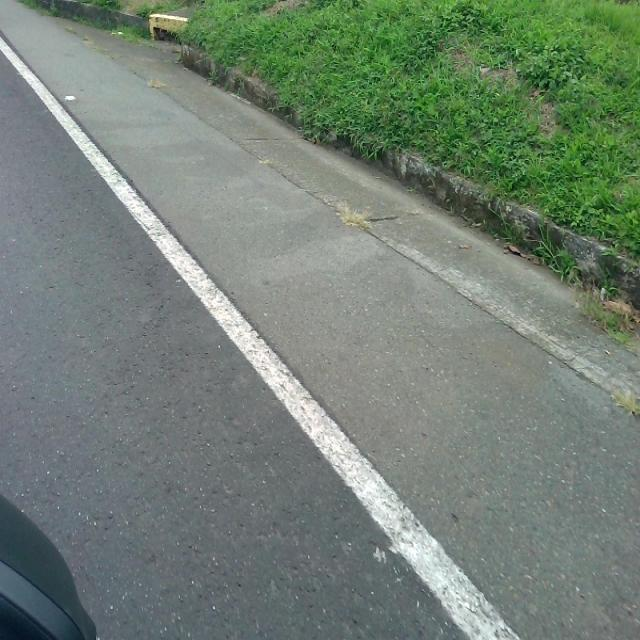DITCH: (1, 3, 639, 638), (3, 1, 638, 638), (1, 3, 638, 638)
